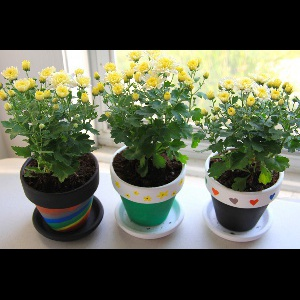flowerpot: (19, 147, 107, 244), (202, 149, 287, 245), (110, 144, 184, 242)
